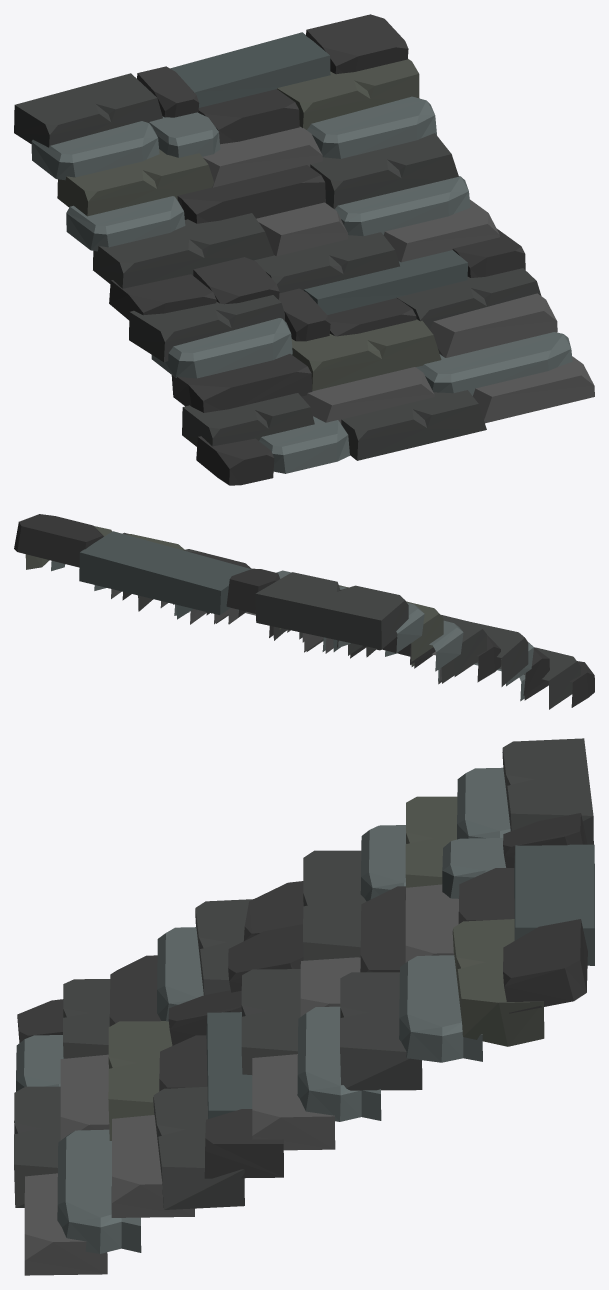
The model's file is ZLP_Stairs_A_2.FBX.
3 renders of one model, top to bottom at view 1: azimuth 30°, elevation 25°; view 2: azimuth 150°, elevation 25°; view 3: azimuth 270°, elevation 25°, orthographic. The views are drawn at different scales.
Visible parts, largest first — view 1: ZLP_Stairs_A_2; view 2: ZLP_Stairs_A_2; view 3: ZLP_Stairs_A_2.
Boxes of the visible parts, x1,y1,x2,y2 form: ZLP_Stairs_A_2: (14, 14, 594, 485); ZLP_Stairs_A_2: (14, 514, 594, 709); ZLP_Stairs_A_2: (14, 738, 594, 1275).
Bounding box in the file's own units: 464 × 279 × 473.
